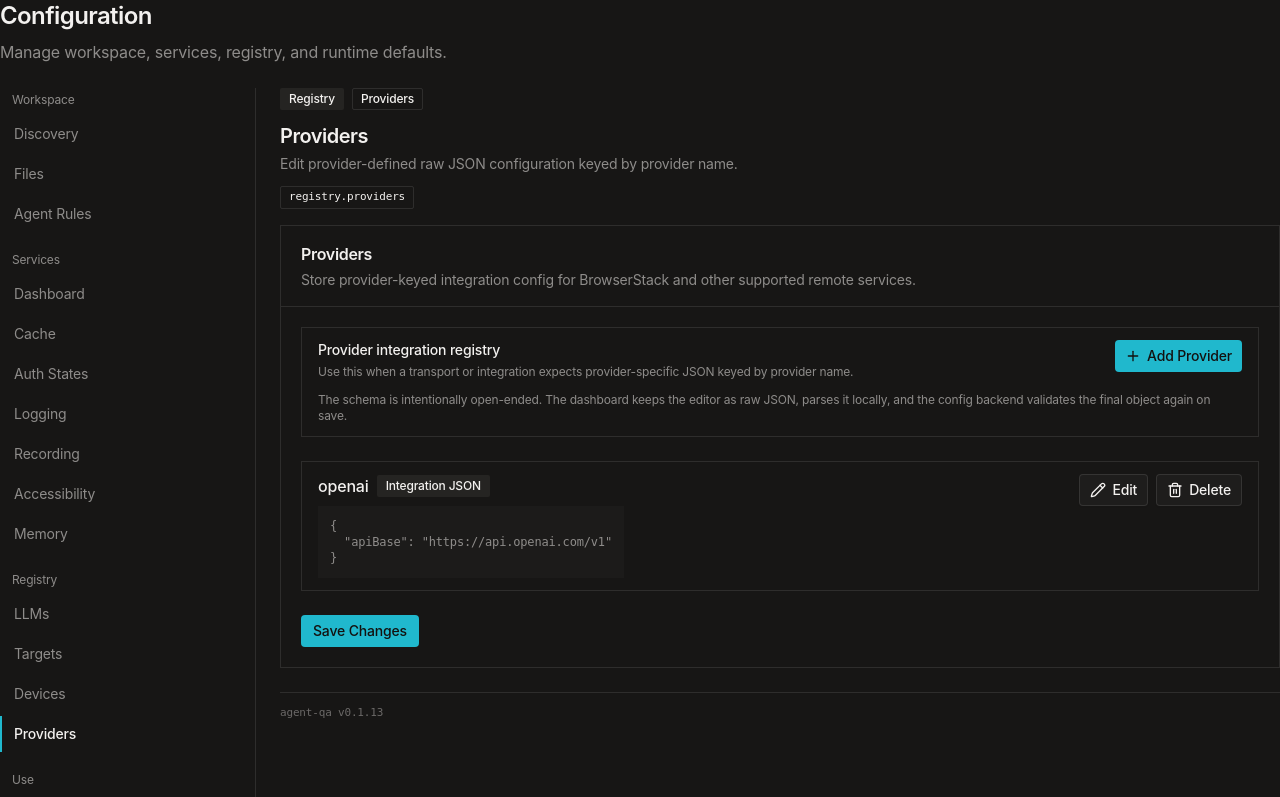
Test case: ConfigPage schema-driven shell › explains Providers usage clearly and edits providers in a modal
Click the button "Edit": (1114, 490) [1079, 474, 1148, 506]
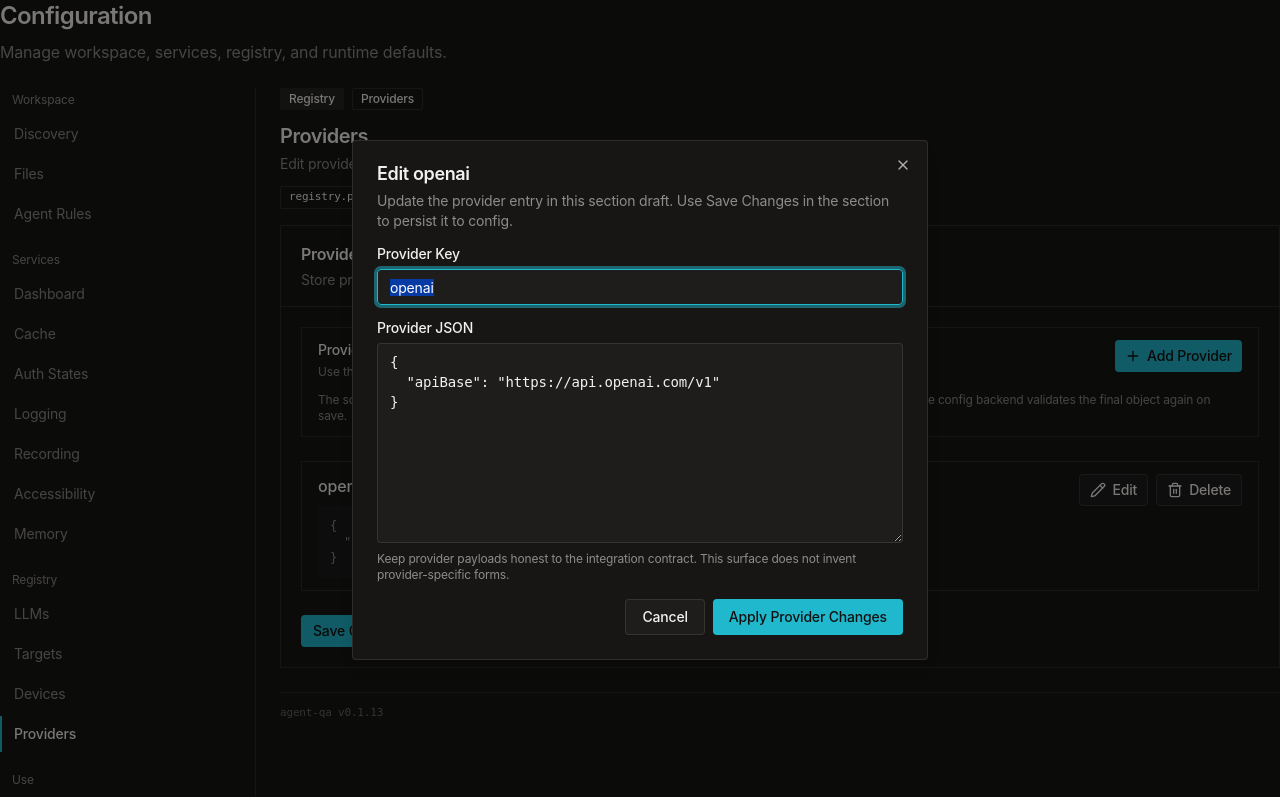
Expected: the text "Edit openai" is shown, [377, 163, 470, 184]
Expected: the text "Apply Provider Changes" is shown, [713, 599, 903, 635]
